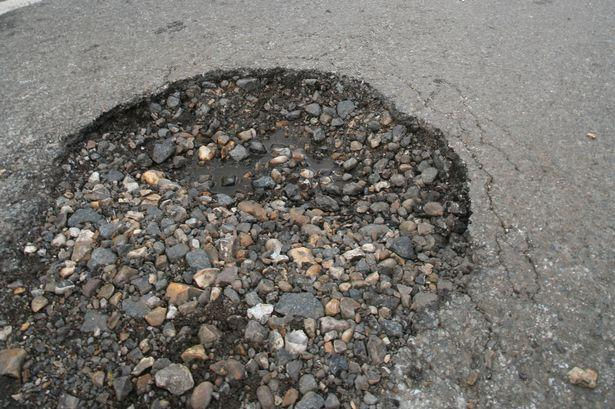Pothole: (0, 36, 521, 408)
